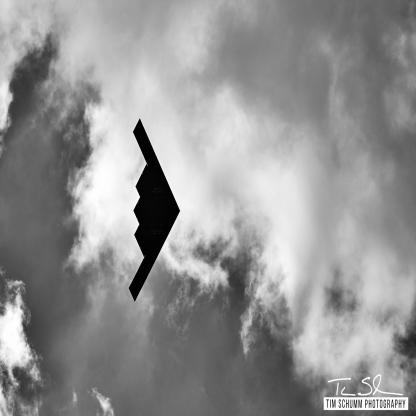B2: (130, 118, 182, 303)
